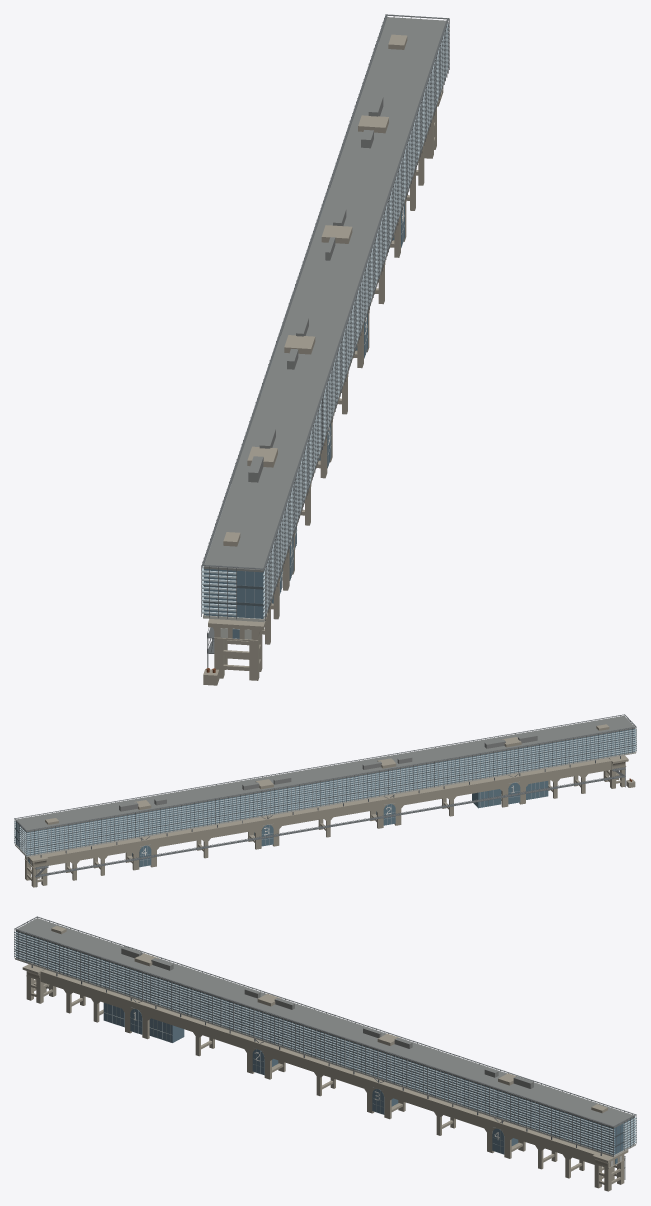
File: kraanspoor.glb
3 views of the same model, one above another, from view 1: azimuth 30°, elevation 25°; view 2: azimuth 150°, elevation 25°; view 3: azimuth 270°, elevation 25° (orthographic). The views are drawn at different scales.
Parts seen in each view (by area): view 1: kraanspoor; view 2: kraanspoor; view 3: kraanspoor.
Part boxes in pixels (bbox=[...]): kraanspoor: bbox=[201, 14, 449, 685]; kraanspoor: bbox=[14, 714, 636, 887]; kraanspoor: bbox=[14, 916, 636, 1191].
Bounding box in the file's own units: 172 × 28.09 × 214.
